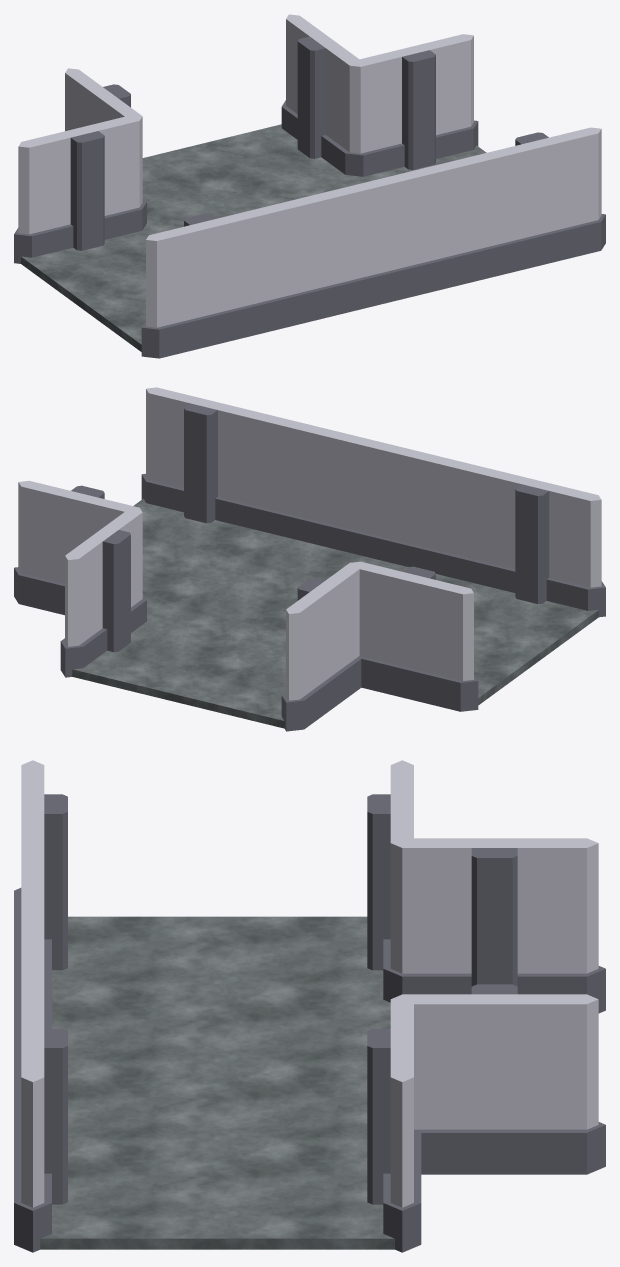
The model's file is intersection_3way_03.fbx.
The picture shows the model from 3 angles, top to bottom: view 1: azimuth 30°, elevation 25°; view 2: azimuth 150°, elevation 25°; view 3: azimuth 270°, elevation 25°; orthographic projection. The views are drawn at different scales.
Parts seen in each view (by area): view 1: wall_02_8, wall_02_4, wall_02_7, wall_02_9, wall_01_10, wall_01_11, floor_04_3, wall_02_5, floor_04_2, wall_02_6, floor_01_0, floor_04_1; view 2: wall_02_7, wall_02_8, floor_01_0, wall_02_9, wall_01_10, wall_01_11, floor_04_3, wall_02_6, wall_02_5, wall_02_4, floor_04_2, floor_04_1; view 3: floor_01_0, wall_02_5, wall_02_6, floor_04_1, floor_04_2, wall_02_4, wall_02_9, wall_02_8, wall_02_7, wall_01_11, wall_01_10.
Part boxes in pixels (x1,y1,x2,y2): wall_02_8: [141, 208, 271, 358]; wall_02_4: [345, 34, 478, 176]; wall_02_7: [14, 115, 142, 263]; wall_02_9: [477, 127, 605, 277]; wall_01_10: [367, 154, 490, 304]; wall_01_11: [258, 181, 381, 331]; floor_04_3: [142, 124, 340, 221]; wall_02_5: [281, 14, 363, 174]; floor_04_2: [21, 226, 154, 351]; wall_02_6: [65, 68, 146, 229]; floor_01_0: [143, 172, 375, 239]; floor_04_1: [359, 145, 486, 181]; wall_02_7: [350, 561, 478, 711]; wall_02_8: [476, 468, 605, 617]; floor_01_0: [143, 528, 483, 651]; wall_02_9: [141, 387, 269, 529]; wall_01_10: [255, 414, 380, 556]; wall_01_11: [366, 441, 489, 583]; floor_04_3: [72, 618, 285, 728]; wall_02_6: [281, 561, 363, 731]; wall_02_5: [60, 511, 146, 677]; wall_02_4: [14, 480, 146, 615]; floor_04_2: [474, 585, 598, 705]; floor_04_1: [133, 498, 262, 603]; floor_01_0: [52, 999, 390, 1160]; wall_02_5: [391, 984, 605, 1174]; wall_02_6: [383, 838, 605, 1013]; floor_04_1: [40, 1151, 394, 1249]; floor_04_2: [52, 916, 390, 1004]; wall_02_4: [367, 994, 421, 1252]; wall_02_9: [14, 994, 67, 1252]; wall_02_8: [14, 760, 67, 971]; wall_02_7: [367, 760, 413, 976]; wall_01_11: [14, 842, 51, 1049]; wall_01_10: [14, 916, 44, 1127].
Size of the model in its own units: 42.05 by 10 by 32.05.
